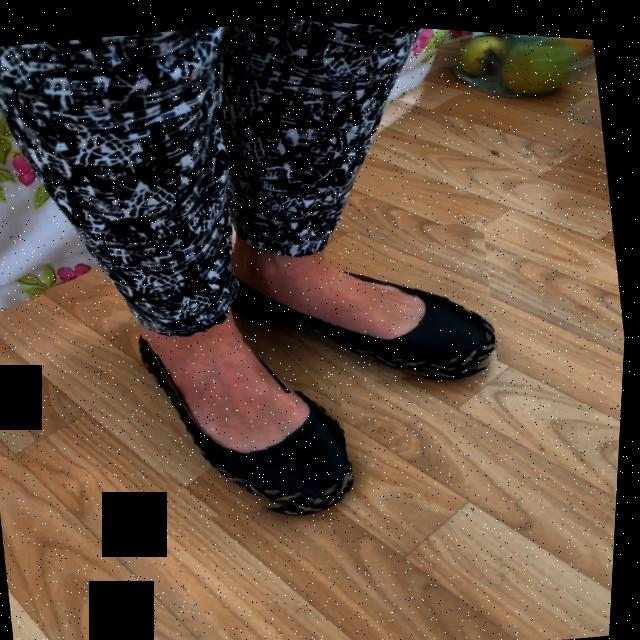shoe: (147, 319, 355, 499), (237, 240, 500, 366)
